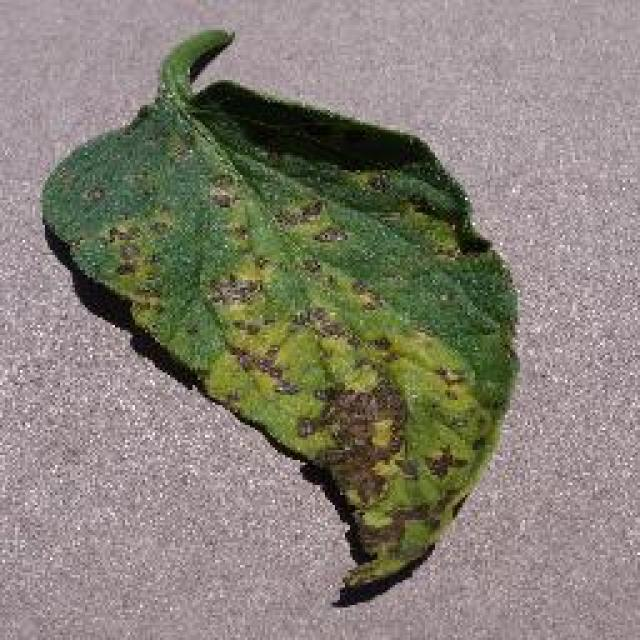Tomato___Septoria_leaf_spot: (42, 30, 515, 585)
